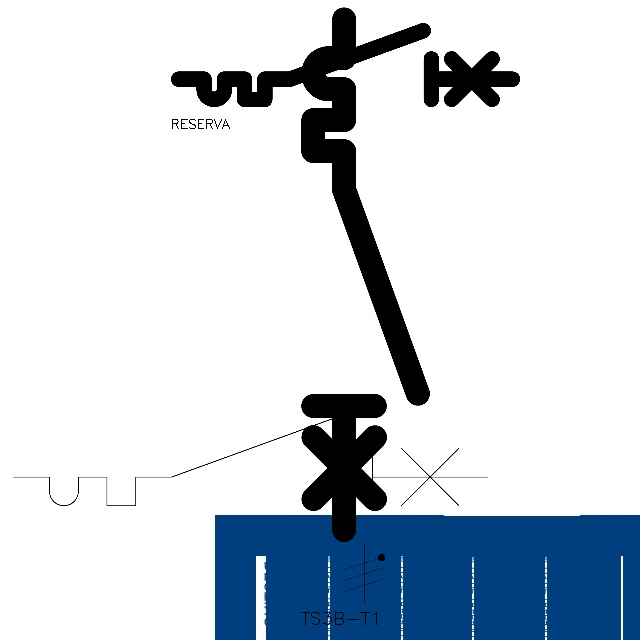interruptor_termomagnetico: (300, 6, 431, 543), (1, 396, 500, 518), (170, 22, 521, 108)
